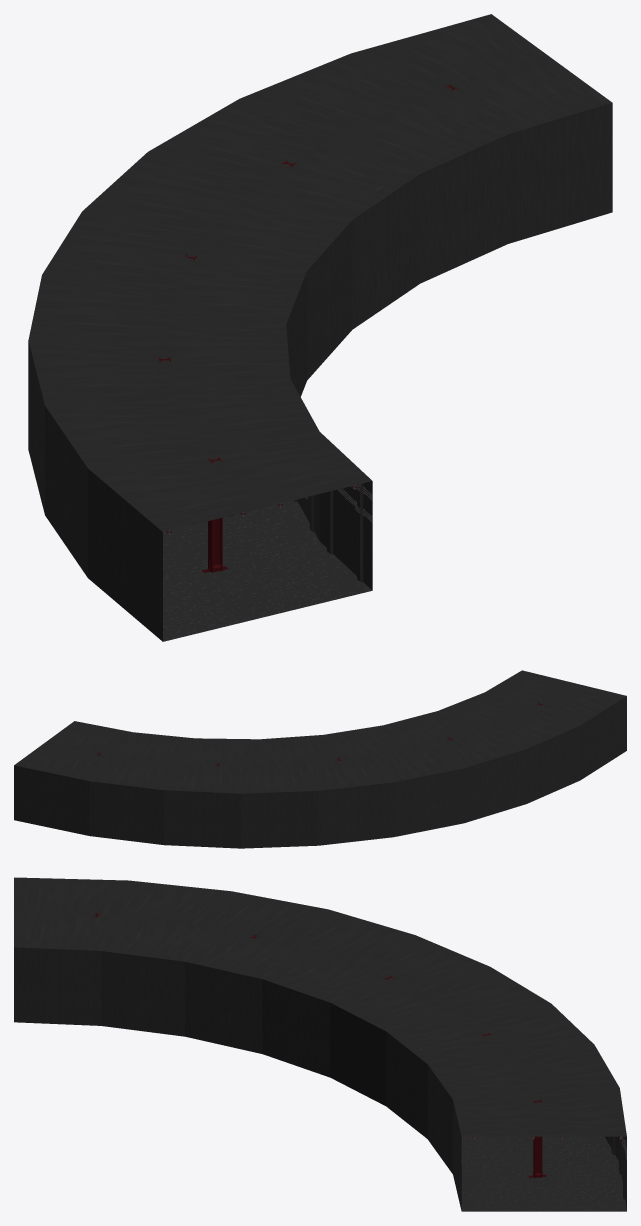
File: SW_ENV_RailTunnelBend_DoubleLeft_FF.fbx
The picture shows the model from 3 angles, top to bottom: view 1: azimuth 30°, elevation 25°; view 2: azimuth 150°, elevation 25°; view 3: azimuth 270°, elevation 25°; orthographic projection. The views are drawn at different scales.
Visible parts, largest first — view 1: SW_ENV_RailTunnelBend_DoubleLeft_FF; view 2: SW_ENV_RailTunnelBend_DoubleLeft_FF; view 3: SW_ENV_RailTunnelBend_DoubleLeft_FF.
Boxes of the visible parts, x1,y1,x2,y2 form: SW_ENV_RailTunnelBend_DoubleLeft_FF: [28, 14, 612, 641]; SW_ENV_RailTunnelBend_DoubleLeft_FF: [14, 670, 626, 848]; SW_ENV_RailTunnelBend_DoubleLeft_FF: [14, 877, 626, 1211].
Bounding box in the file's own units: 31.5 × 4.26 × 31.5.
